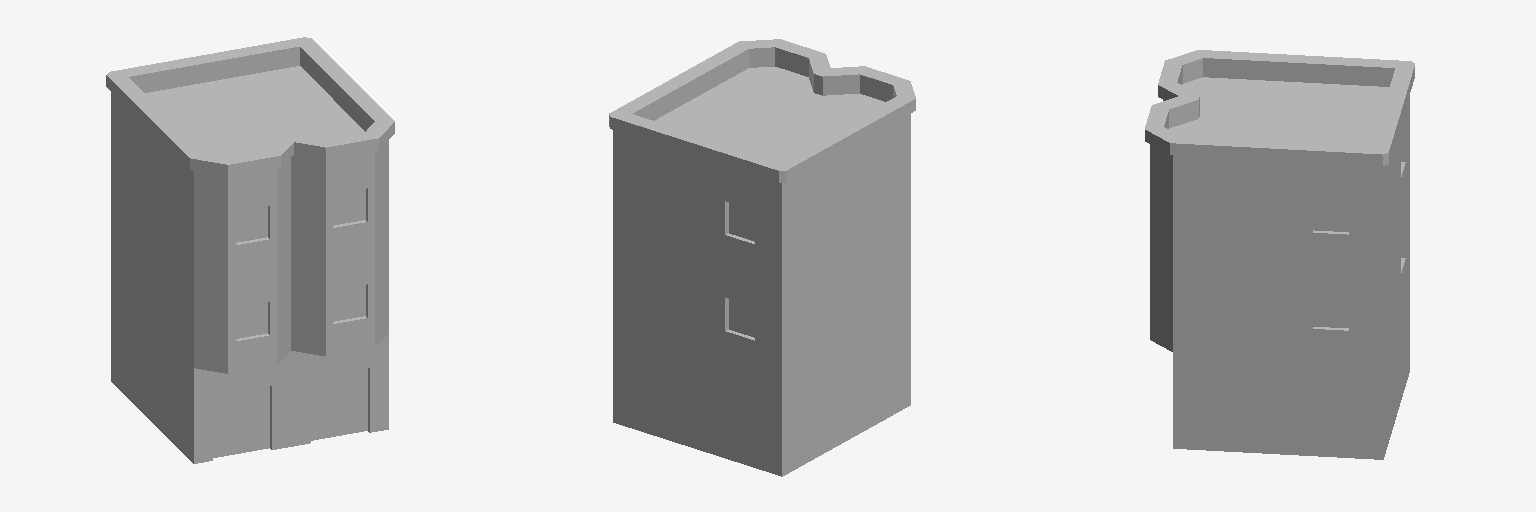
The model's file is variant_24.obj.
3 views of the same model, side by side, from view 1: azimuth 30°, elevation 25°; view 2: azimuth 150°, elevation 25°; view 3: azimuth 270°, elevation 25° (orthographic).
Visible parts, largest first — view 1: Building; view 2: Building; view 3: Building.
Boxes of the visible parts, box(x1,y1,x2,y2) form: Building: box(106, 37, 394, 463); Building: box(609, 39, 915, 476); Building: box(1145, 50, 1414, 459).
Bounding box in the file's own units: 0.9347 × 1.28 × 1.02.